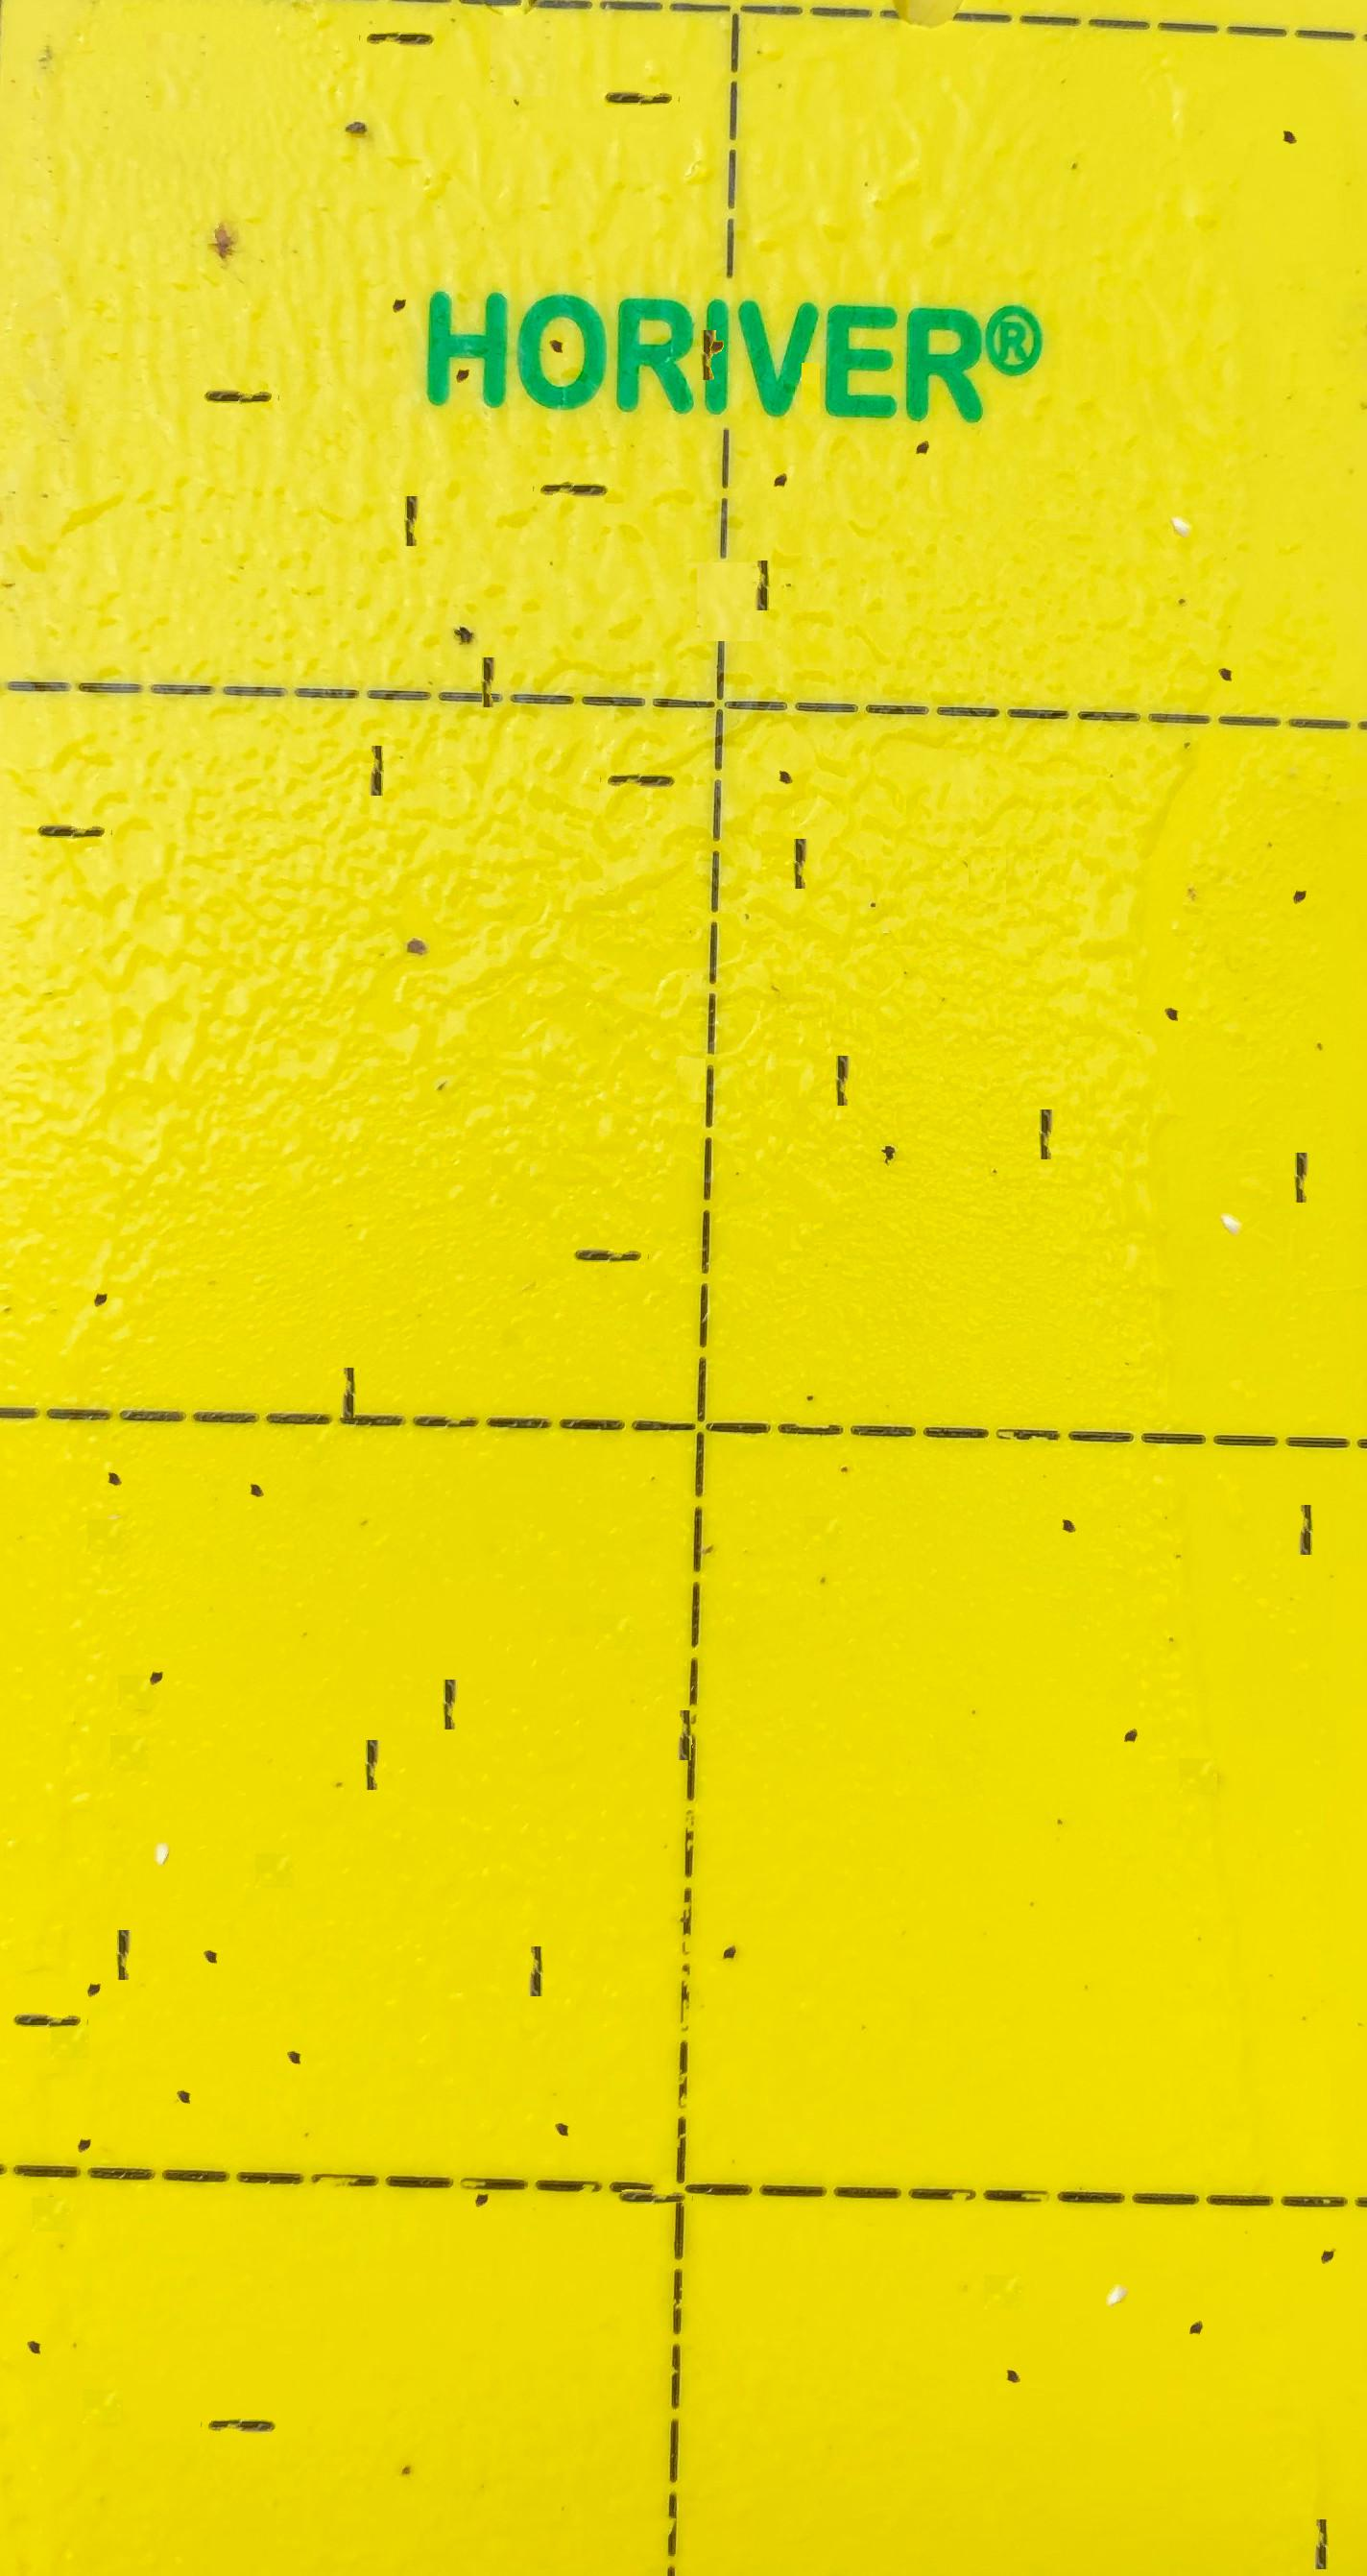white_fly: (1096, 2230, 1139, 2273), (1161, 463, 1203, 506), (1210, 1160, 1253, 1203), (143, 1797, 184, 1835)
